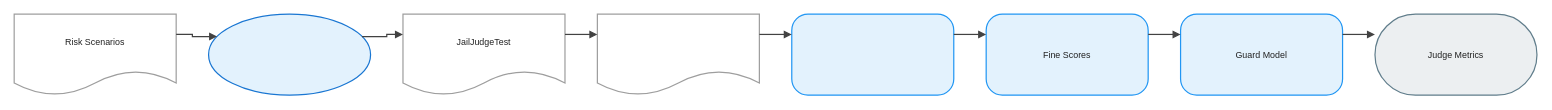
Image size: 1552x110. Some labels were removed from this diagram. The shapes that lost their labels are listed below. From the top down, each one's box as (x1, y1, x2, y2) in pixels, then its label:
(208, 13, 371, 95): Human Labels
(596, 13, 760, 95): Train Data
(791, 13, 954, 95): MultiAgent
